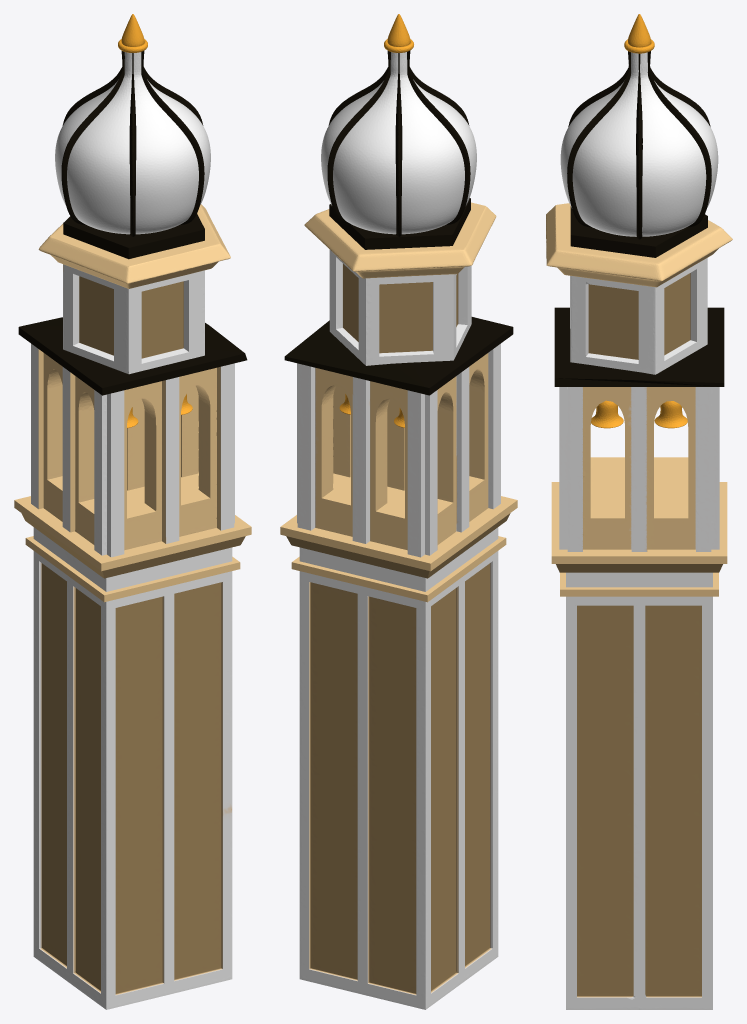
The model's file is VEN_Stock_04_LOD1.glb.
3 views of the same model, side by side, from view 1: azimuth 30°, elevation 25°; view 2: azimuth 150°, elevation 25°; view 3: azimuth 270°, elevation 25° (orthographic).
Visible parts, largest first — view 1: Box (×3), Box 2, Lathe, Cone (×2), Lathe 1 (×6), Box 1, Cylinder, Box 3; view 2: Box (×3), Box 2, Lathe, Cone (×2), Lathe 1 (×6), Box 1, Box 3, Cylinder; view 3: Box (×3), Box 2, Lathe (×2), Cone (×2), Lathe 1 (×6), Box 1, Cylinder, Box 3, Lathe 5.
Part boxes in pixels (x1,y1,x2,y2): Box (×3): [18, 264, 247, 1009]; Box 2: [31, 343, 234, 557]; Lathe: [55, 52, 210, 234]; Cone (×2): [21, 204, 245, 578]; Lathe 1 (×6): [61, 51, 204, 236]; Box 1: [14, 496, 251, 571]; Cylinder: [63, 214, 204, 259]; Box 3: [25, 536, 240, 602]; Box (×3): [284, 250, 513, 1009]; Box 2: [297, 343, 500, 557]; Lathe: [321, 52, 476, 234]; Cone (×2): [286, 202, 510, 578]; Lathe 1 (×6): [327, 51, 470, 236]; Box 1: [280, 496, 517, 571]; Box 3: [291, 536, 506, 602]; Cylinder: [329, 198, 470, 249]; Box (×3): [554, 258, 724, 1009]; Box 2: [559, 387, 719, 551]; Lathe (×2): [560, 14, 718, 236]; Cone (×2): [546, 203, 732, 572]; Lathe 1 (×6): [567, 51, 711, 239]; Box 1: [551, 482, 727, 563]; Cylinder: [570, 206, 707, 257]; Box 3: [560, 572, 718, 596]; Lathe 5: [591, 400, 687, 428].
Bounding box in the file's own units: 2.19 × 11.93 × 2.09.
